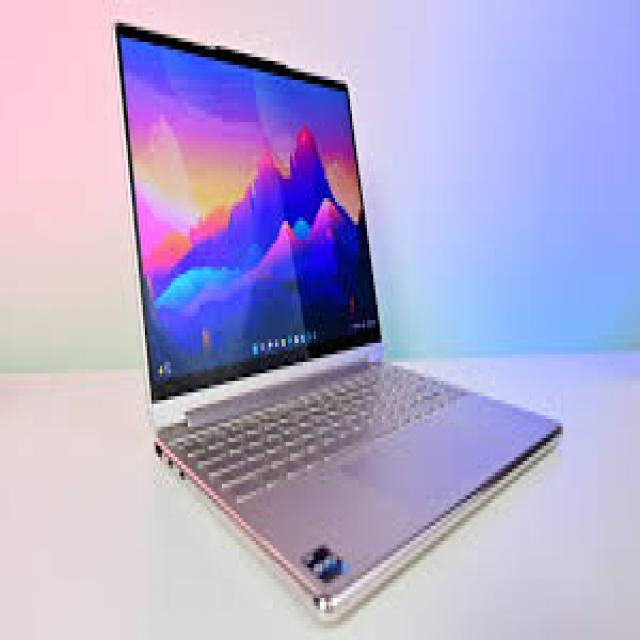others: (109, 15, 586, 625)
